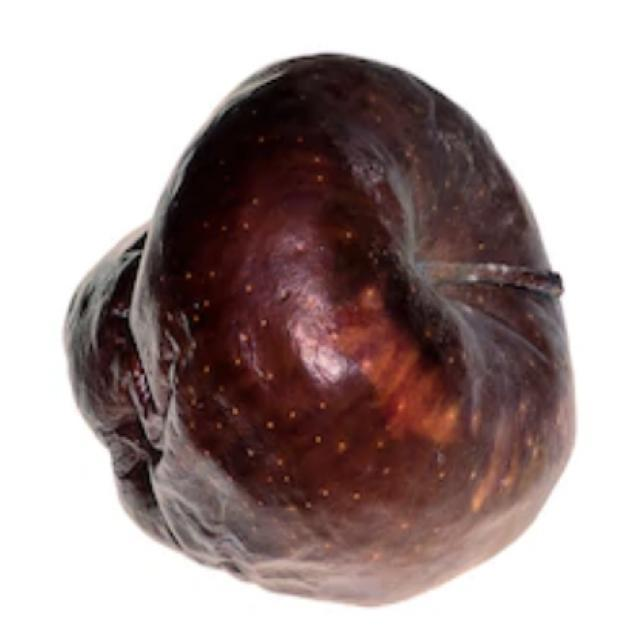Rotten: (102, 47, 565, 595)
